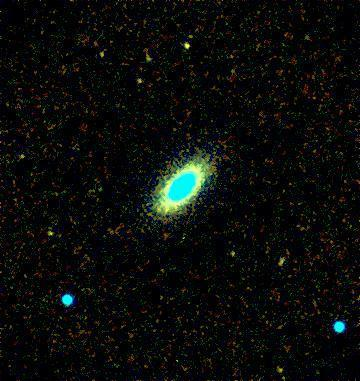star: (268, 353, 298, 381)
